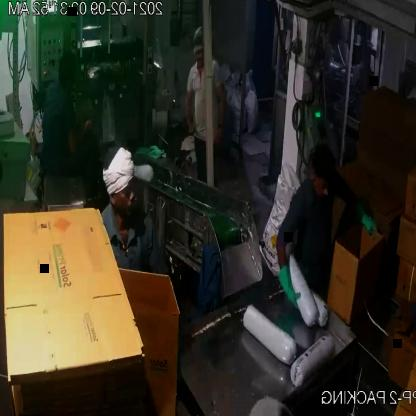glove: (265, 250, 313, 326), (347, 197, 384, 247)
no_glove: (384, 278, 416, 350), (62, 107, 100, 159), (210, 72, 230, 160), (183, 73, 202, 145)
